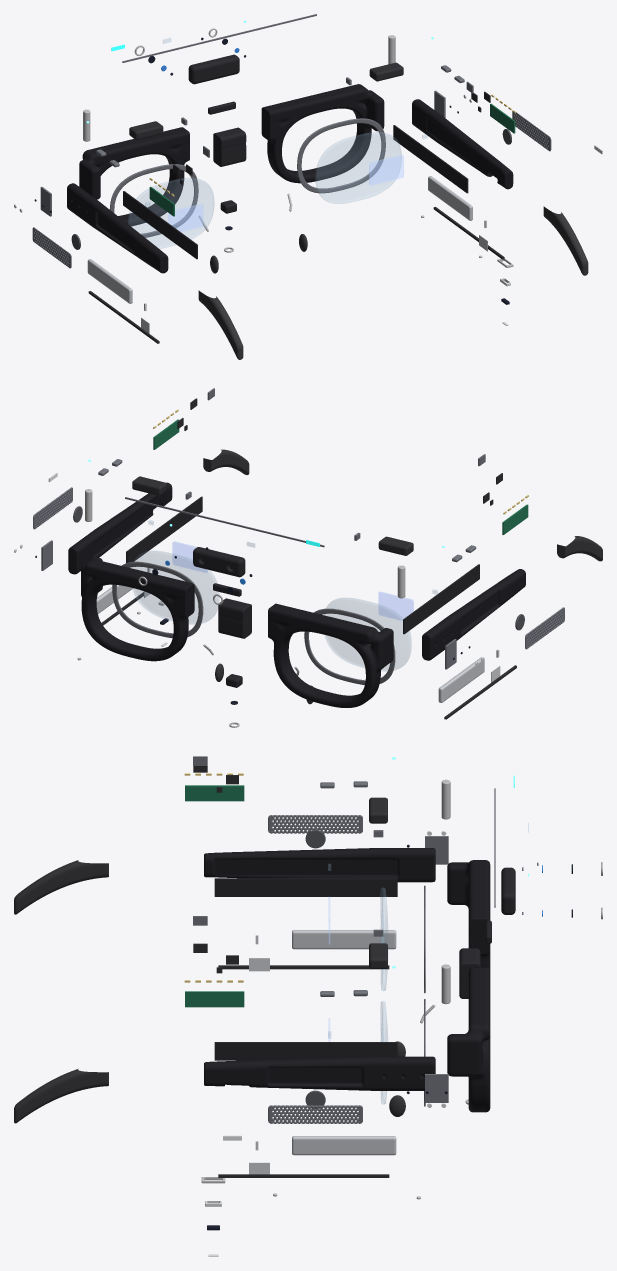
File: SIGNLINK_Connect_Exploded.glb
3 views of the same model, one above another, from view 1: azimuth 30°, elevation 25°; view 2: azimuth 150°, elevation 25°; view 3: azimuth 270°, elevation 25° (orthographic). The views are drawn at different scales.
Parts seen in each view (by area): view 1: 004 | Right Polished Acetate Lens Rim, 006 | Right Clear Prescription Lens, 001 | Left Polished Acetate Lens Rim, 003 | Left Clear Prescription Lens, 034 | Left Gloss-Black Temple Outer Housing, 060 | Right Gloss-Black Temple Outer Housing, 005 | Right Lens Retaining Bezel, 062 | Right Inner Temple Service Cover, 036 | Left Inner Temple Service Cover, 007 | Integrated Sculpted Nose Bridge, 012 | Central Dual-Camera Bridge Pod, 037 | Left Soft-Touch Ear Tip (+11 smaller); view 2: 001 | Left Polished Acetate Lens Rim, 004 | Right Polished Acetate Lens Rim, 034 | Left Gloss-Black Temple Outer Housing, 060 | Right Gloss-Black Temple Outer Housing, 006 | Right Clear Prescription Lens, 003 | Left Clear Prescription Lens, 036 | Left Inner Temple Service Cover, 062 | Right Inner Temple Service Cover, 007 | Integrated Sculpted Nose Bridge, 005 | Right Lens Retaining Bezel, 012 | Central Dual-Camera Bridge Pod, 002 | Left Lens Retaining Bezel (+10 smaller); view 3: 060 | Right Gloss-Black Temple Outer Housing, 034 | Left Gloss-Black Temple Outer Housing, 004 | Right Polished Acetate Lens Rim, 036 | Left Inner Temple Service Cover, 062 | Right Inner Temple Service Cover, 001 | Left Polished Acetate Lens Rim, 075 | Right Rechargeable Lithium Battery Cell, 049 | Left Rechargeable Lithium Battery Cell, 037 | Left Soft-Touch Ear Tip, 063 | Right Soft-Touch Ear Tip, 079 | Right Acoustic Outlet Grille, 053 | Left Acoustic Outlet Grille (+7 smaller).
Part boxes in pixels (<box>): 004 | Right Polished Acetate Lens Rim: <box>261,84,384,183</box>; 006 | Right Clear Prescription Lens: <box>315,132,401,203</box>; 001 | Left Polished Acetate Lens Rim: <box>79,127,189,226</box>; 003 | Left Clear Prescription Lens: <box>128,178,214,248</box>; 034 | Left Gloss-Black Temple Outer Housing: <box>67,183,168,273</box>; 060 | Right Gloss-Black Temple Outer Housing: <box>412,99,513,189</box>; 005 | Right Lens Retaining Bezel: <box>297,118,385,193</box>; 062 | Right Inner Temple Service Cover: <box>393,125,468,193</box>; 036 | Left Inner Temple Service Cover: <box>123,191,197,259</box>; 007 | Integrated Sculpted Nose Bridge: <box>213,127,246,166</box>; 012 | Central Dual-Camera Bridge Pod: <box>188,54,239,84</box>; 037 | Left Soft-Touch Ear Tip: <box>198,290,243,359</box>; 001 | Left Polished Acetate Lens Rim: <box>268,603,393,707</box>; 004 | Right Polished Acetate Lens Rim: <box>81,557,194,661</box>; 034 | Left Gloss-Black Temple Outer Housing: <box>422,569,525,660</box>; 060 | Right Gloss-Black Temple Outer Housing: <box>68,482,172,574</box>; 006 | Right Clear Prescription Lens: <box>132,551,219,624</box>; 003 | Left Clear Prescription Lens: <box>324,598,411,671</box>; 036 | Left Inner Temple Service Cover: <box>403,564,479,634</box>; 062 | Right Inner Temple Service Cover: <box>126,496,202,563</box>; 007 | Integrated Sculpted Nose Bridge: <box>218,598,251,638</box>; 005 | Right Lens Retaining Bezel: <box>112,561,203,638</box>; 012 | Central Dual-Camera Bridge Pod: <box>193,547,245,577</box>; 002 | Left Lens Retaining Bezel: <box>304,608,395,684</box>; 060 | Right Gloss-Black Temple Outer Housing: <box>204,1056,435,1090</box>; 034 | Left Gloss-Black Temple Outer Housing: <box>204,848,435,882</box>; 004 | Right Polished Acetate Lens Rim: <box>447,967,490,1112</box>; 036 | Left Inner Temple Service Cover: <box>214,878,397,896</box>; 062 | Right Inner Temple Service Cover: <box>214,1042,397,1060</box>; 001 | Left Polished Acetate Lens Rim: <box>447,860,490,971</box>; 075 | Right Rechargeable Lithium Battery Cell: <box>292,1136,396,1155</box>; 049 | Left Rechargeable Lithium Battery Cell: <box>292,930,396,949</box>; 037 | Left Soft-Touch Ear Tip: <box>14,860,108,914</box>; 063 | Right Soft-Touch Ear Tip: <box>14,1069,108,1123</box>; 079 | Right Acoustic Outlet Grille: <box>268,1105,362,1123</box>; 053 | Left Acoustic Outlet Grille: <box>268,815,362,833</box>.
Size of the model in its own units: 0.31 by 0.1465 by 0.248.
